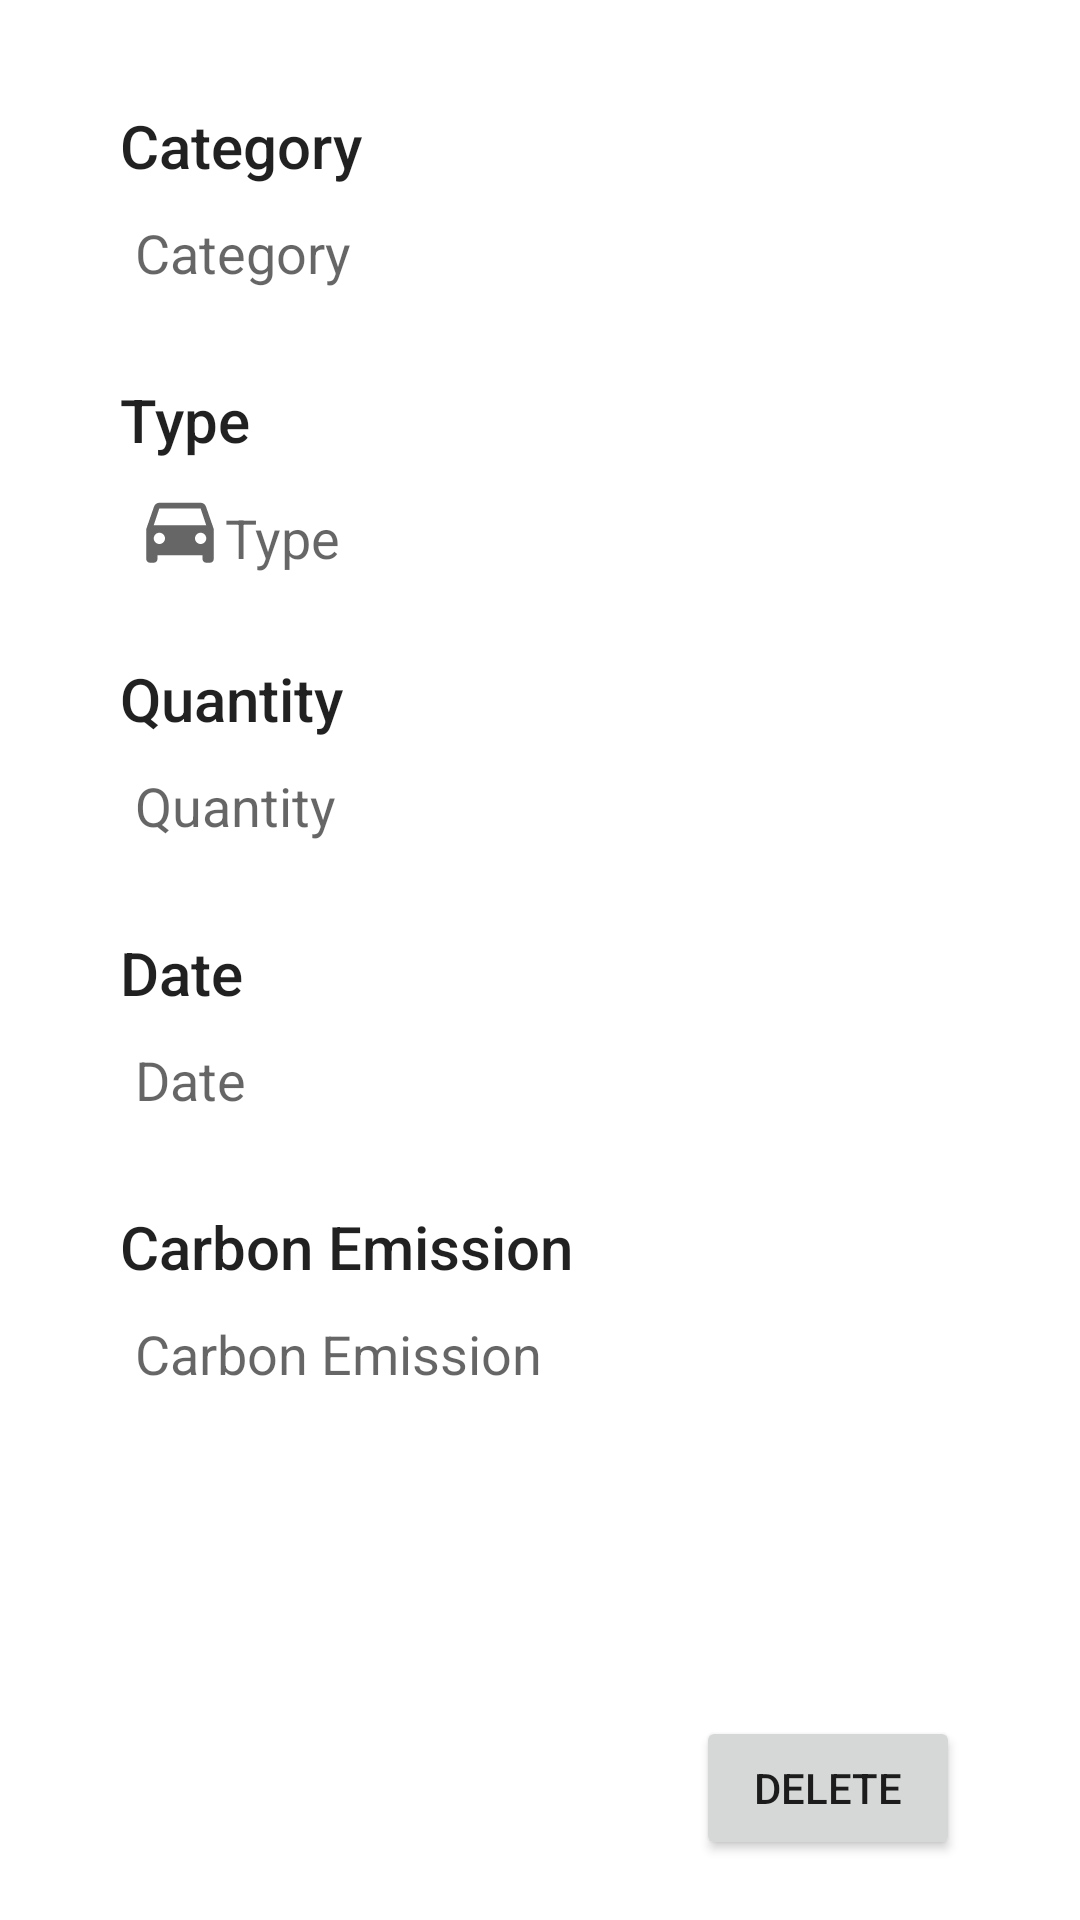

Icons on this 1080×1920 Android screen, each with the point to tap as (x,y):
directions car: (180,532)
